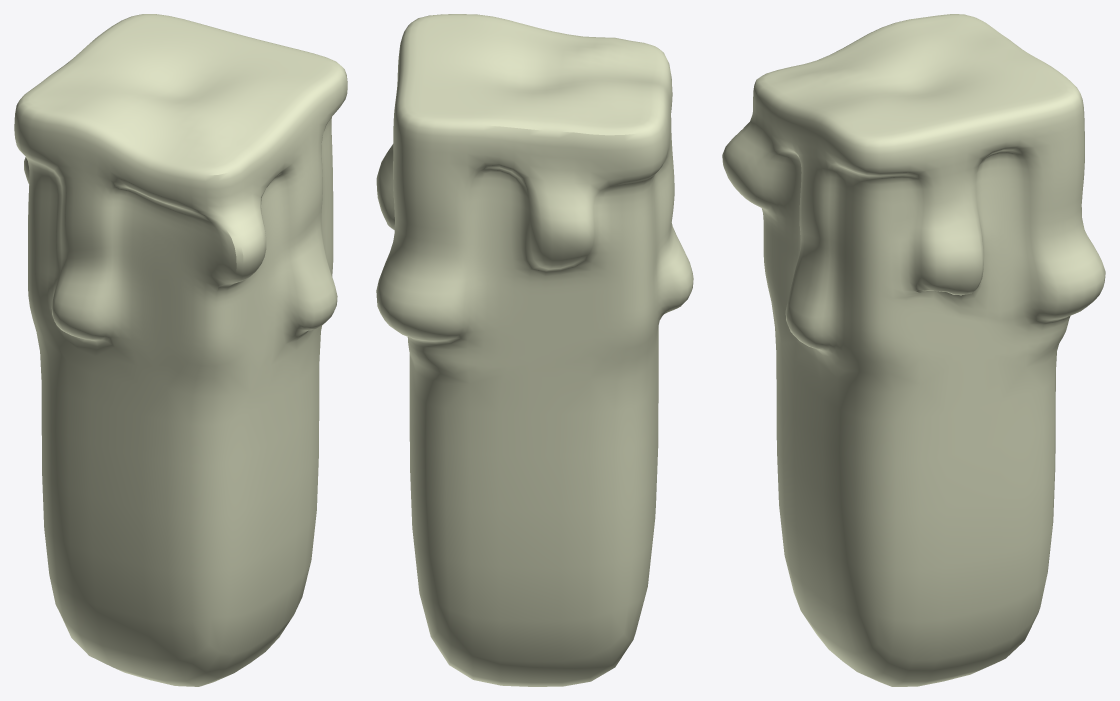
The model's file is single_candle.fbx.
3 renders of one model, left to right at view 1: azimuth 30°, elevation 25°; view 2: azimuth 150°, elevation 25°; view 3: azimuth 270°, elevation 25°, orthographic. The views are drawn at different scales.
Parts seen in each view (by area): view 1: Candle; view 2: Candle; view 3: Candle.
Part boxes in pixels (x1,y1,x2,y2): Candle: (14, 14, 347, 686); Candle: (376, 14, 693, 686); Candle: (722, 14, 1105, 686).
Size of the model in its own units: 24.42 by 47.83 by 28.01.
